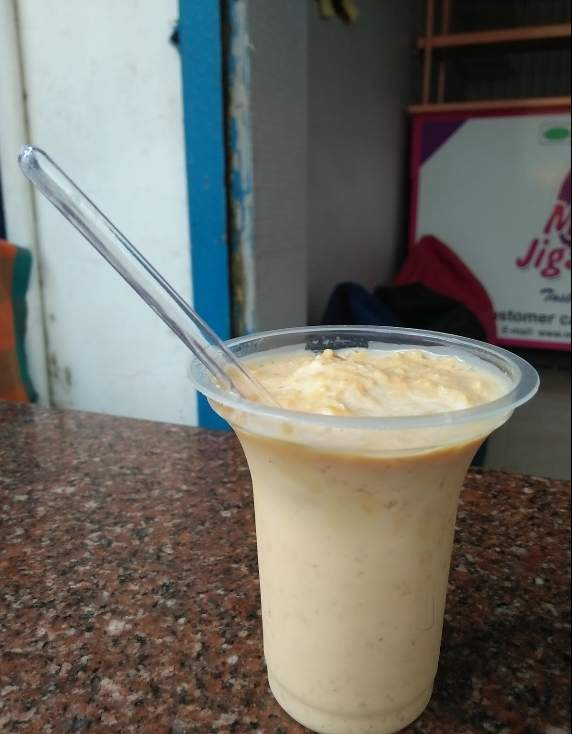jigirthanda: (201, 321, 445, 704)
